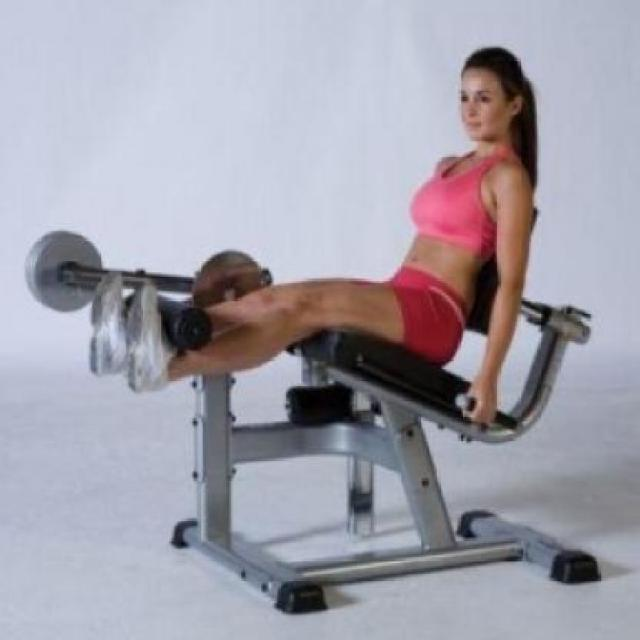leg extension: (11, 31, 615, 618)
